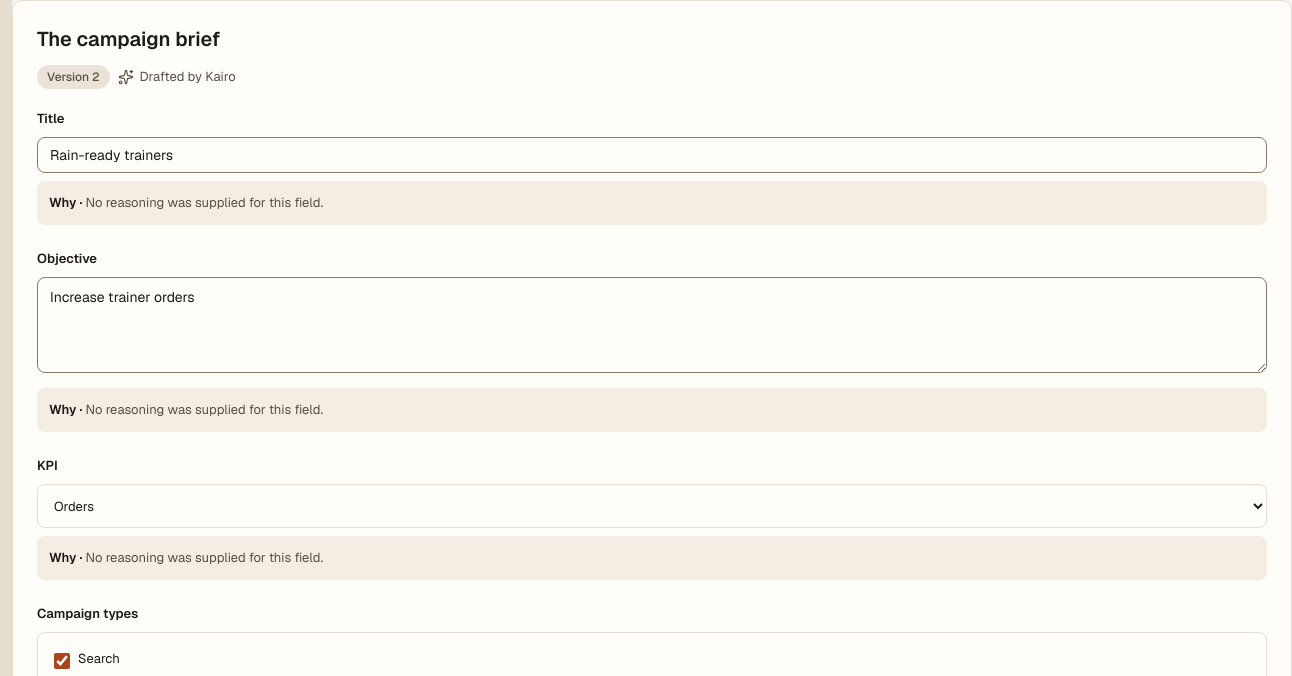
Test: unsaved edits block instructions and approval; discard restores saved values
The width and height of the screenshot is (1292, 676).
Replace the text in the field labelled "Title" with "Unsaved" at (652, 155), box [37,137,1267,173]
(page scrolled)
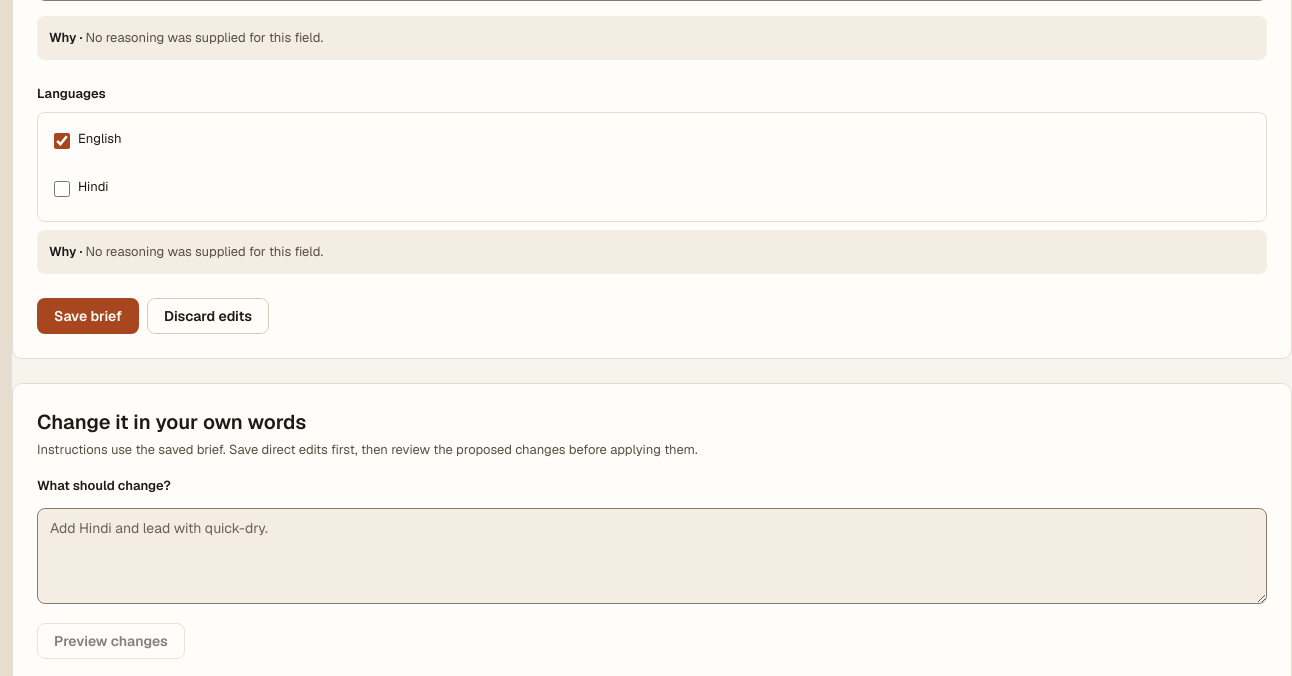
Now the button "Preview changes" is disabled, box [37,623,185,659]
Click the button "Discard edits" at (208, 316), box [147,298,269,334]
(page scrolled)
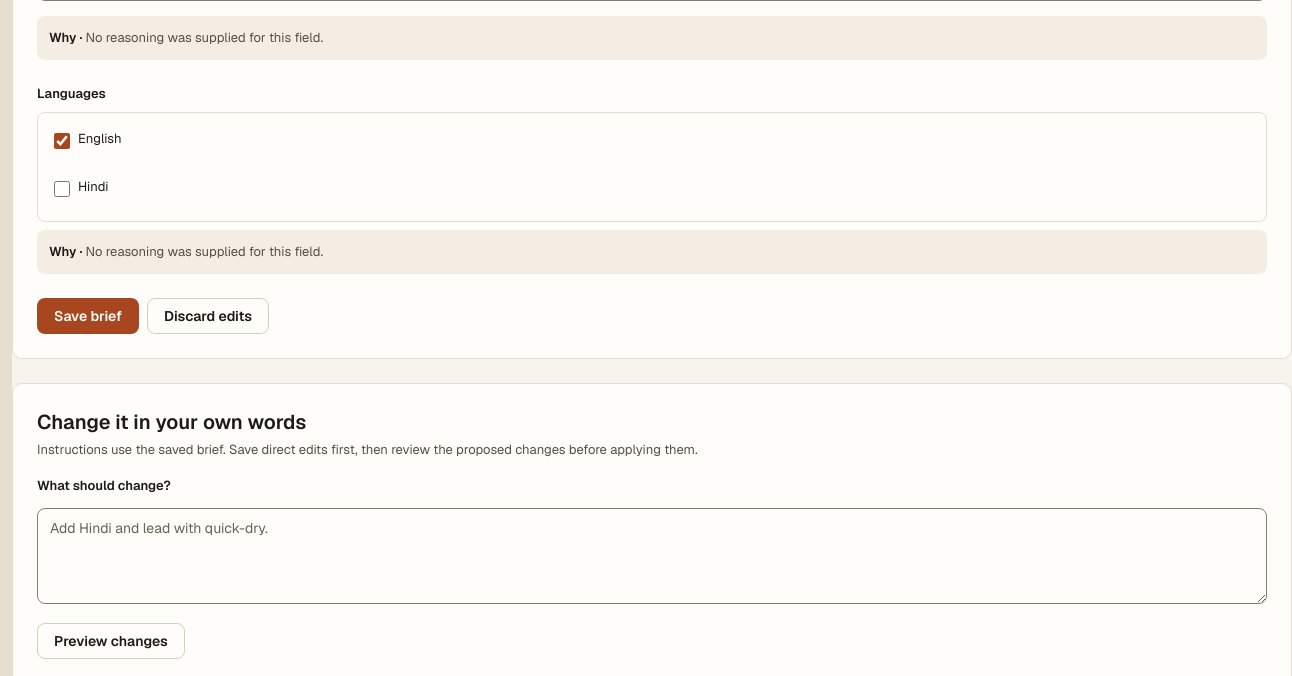
Now the button "Preview changes" is enabled, box [37,623,185,659]
